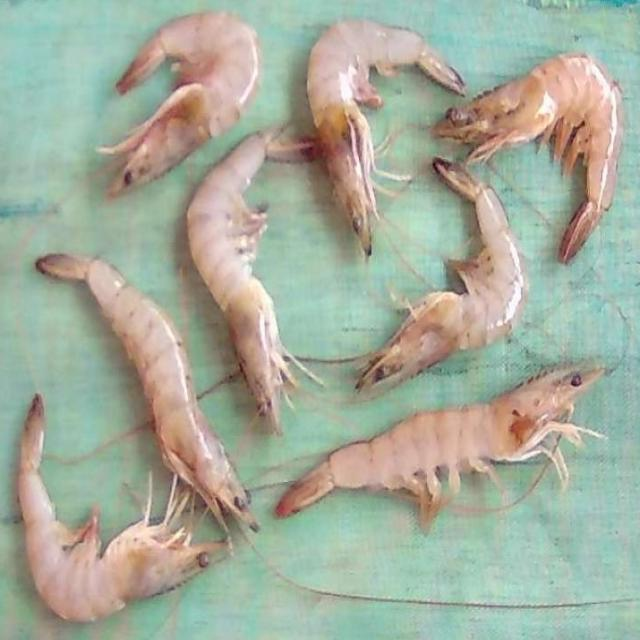shrimp: (34, 254, 257, 530), (275, 368, 605, 531), (17, 394, 224, 623), (433, 53, 624, 263), (356, 158, 528, 390), (307, 20, 465, 255), (186, 131, 294, 434), (98, 12, 260, 197)
